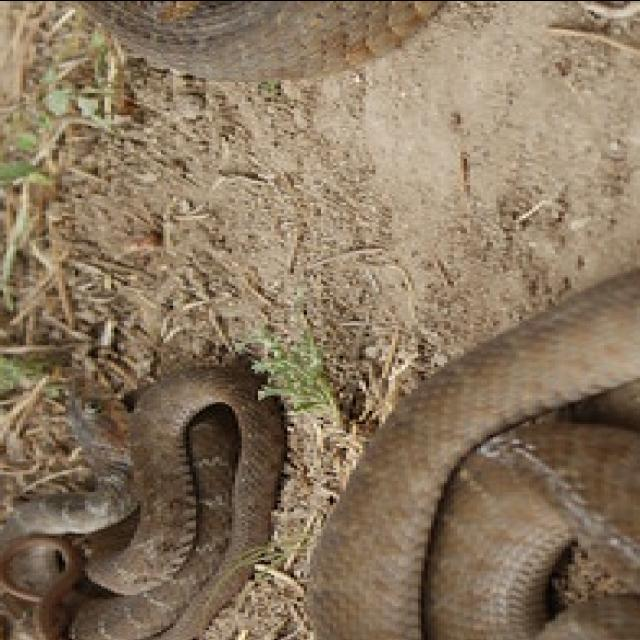Snake: (4, 0, 572, 81)
